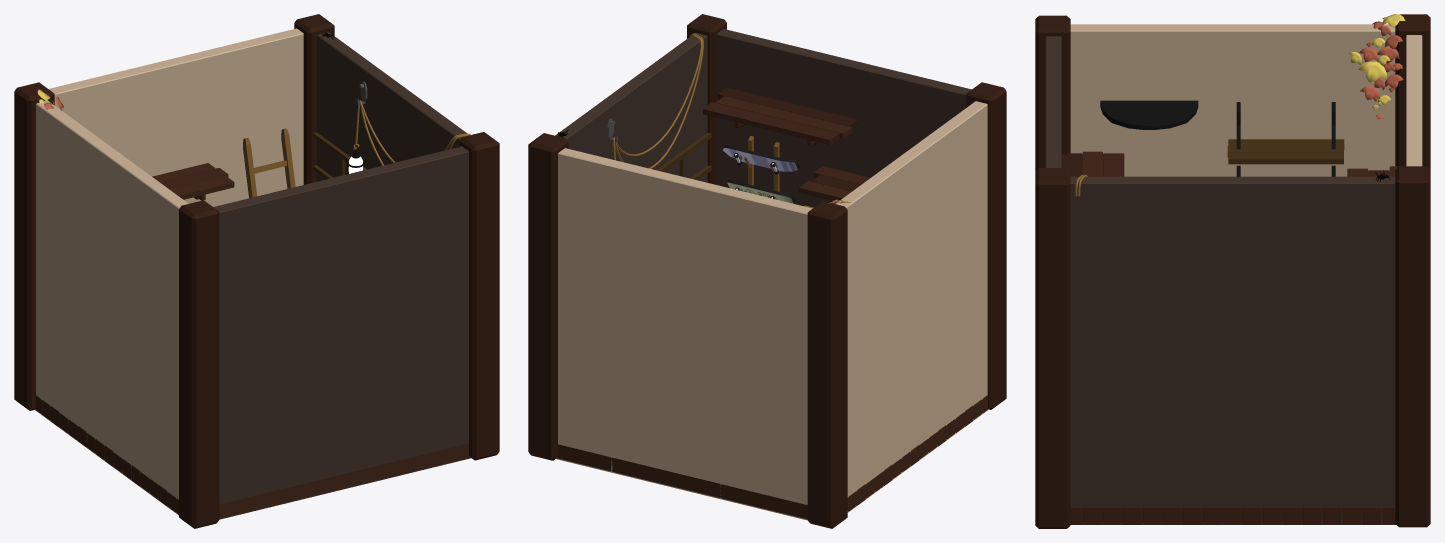
Rendered from LostThenFoundScene.fbx.
3 renders of one model, left to right at view 1: azimuth 30°, elevation 25°; view 2: azimuth 150°, elevation 25°; view 3: azimuth 270°, elevation 25°, orthographic. The views are drawn at different scales.
Visible parts, largest first — view 1: wall4, wall2, wall1, pillar.003, wall3, pillar.001, pillar, pillar.002, wall shelf, Cube.061, ladder, Cube.062 (+1 smaller); view 2: wall1, wall2, wall4, pillar, wall3, pillar.002, pillar.003, wall shelf.001, pillar.001, Cube.028, wall shelf.002, Cube.029 (+4 smaller); view 3: wall3, wall2, pillar.002, pillar.001, hanging wall shelf.001, pillar.003, pillar, round shelf, wall1, wall4, wall shelf.001, floor.
Part boxes in pixels (x1,y1,x2,y2): wall4: (213,146,471,519); wall2: (34,101,188,515); wall1: (48,28,303,206); pillar.003: (179,200,219,528); wall3: (317,32,467,181); pillar.001: (459,132,499,460); pillar: (14,82,54,410); pillar.002: (294,14,334,184); wall shelf: (152,163,234,200); Cube.061: (303,457,411,497); ladder: (243,128,295,198); Cube.062: (219,484,301,518); wall1: (556,148,812,520); wall2: (835,101,988,512); wall4: (716,29,971,207); pillar: (807,201,847,528); wall3: (555,32,707,182); pillar.002: (528,133,568,460); pillar.003: (966,82,1006,409); wall shelf.001: (703,87,857,145); pillar.001: (687,14,726,184); Cube.028: (612,458,719,497); wall shelf.002: (799,166,870,203); Cube.029: (722,484,807,519); wall3: (1070,176,1395,524); wall2: (1070,24,1395,176); pillar.002: (1395,166,1430,527); pillar.001: (1035,168,1070,528); hanging wall shelf.001: (1227,102,1344,164); pillar.003: (1035,15,1070,170); pillar: (1395,14,1430,168); round shelf: (1100,100,1198,129); wall1: (1406,35,1422,166); wall4: (1045,36,1061,167); wall shelf.001: (1062,151,1124,176); floor: (1082,508,1382,522).
Size of the model in its own units: 1058 by 1035 by 1049.
Materials: 27 (3 with a texture image).
